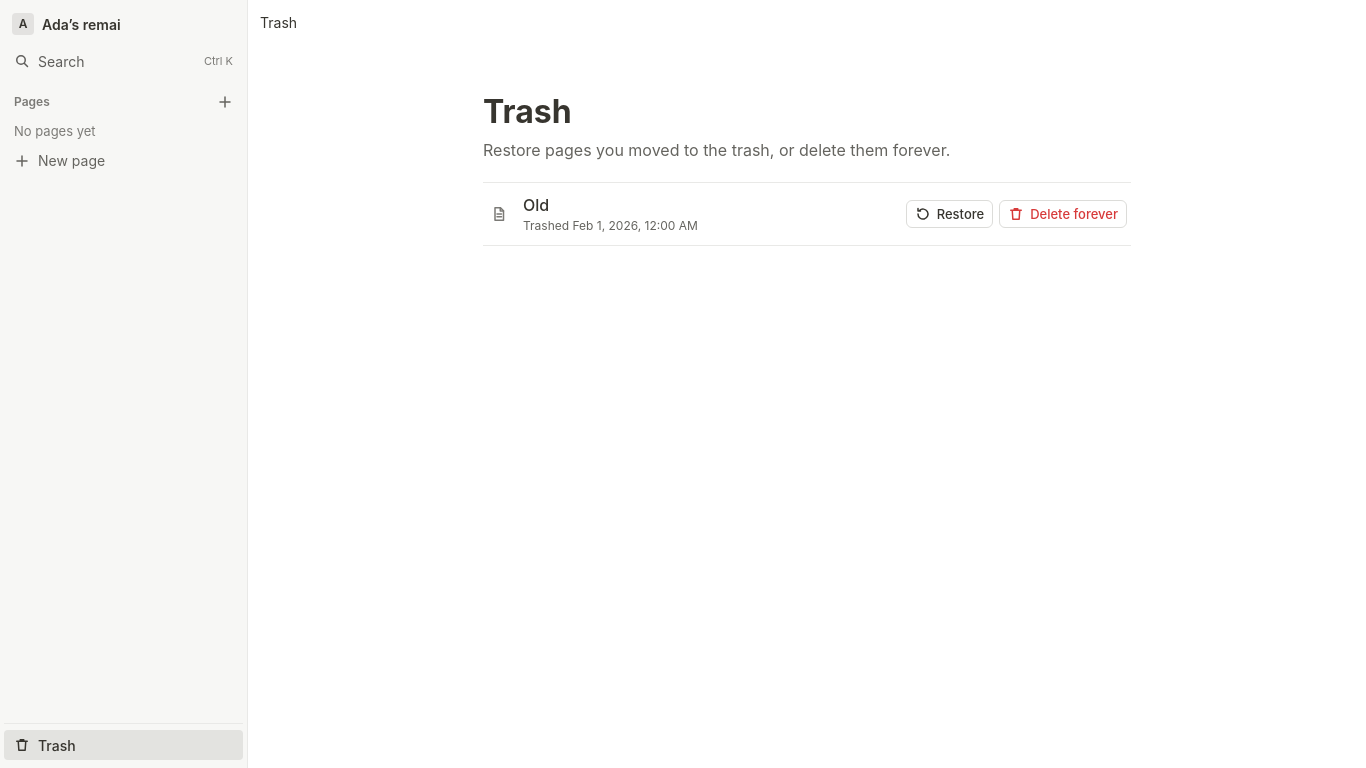
Test case: Trash in clients › Confirm before delete forever: asks first, and deletes only after confirming
This screenshot has width=1366, height=768.
Click the button with aria-label "Delete Old forever": (1063, 214) [999,200,1127,228]
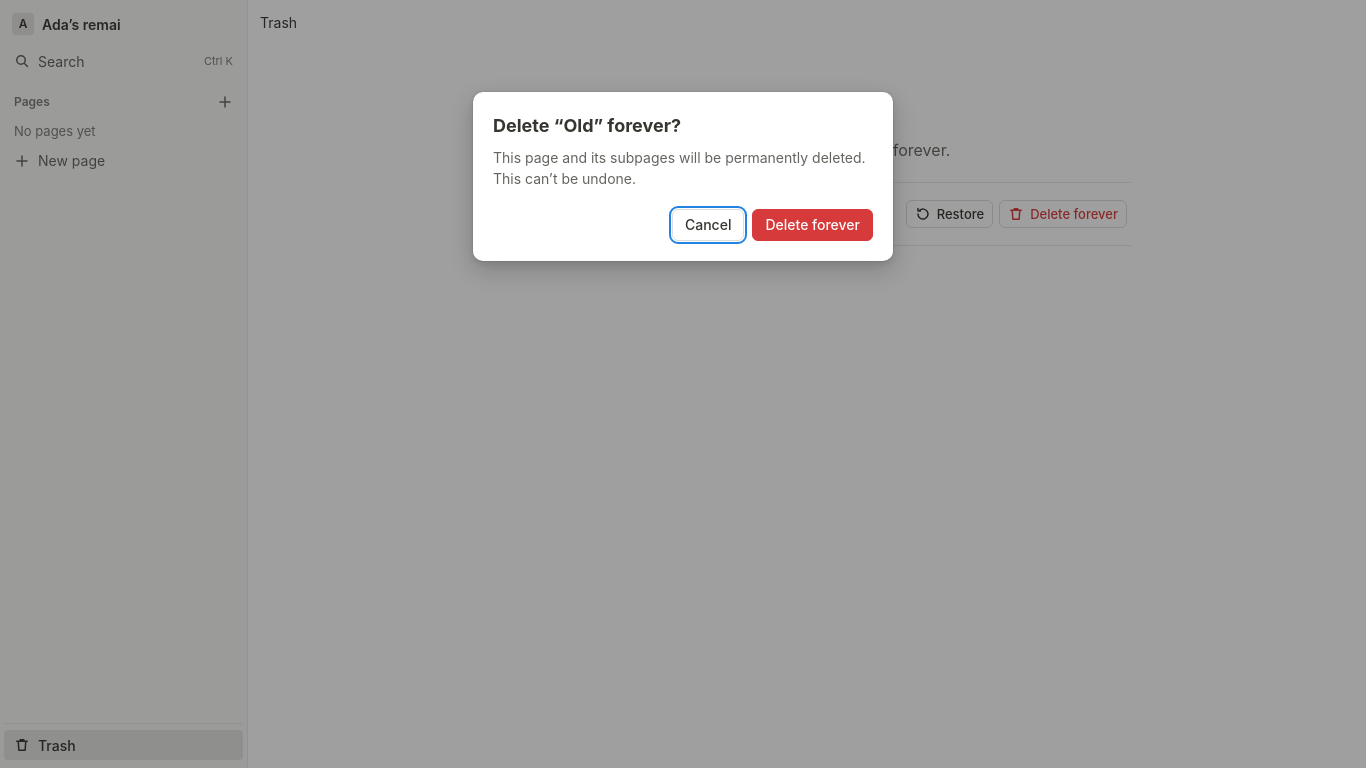
Click the button "Cancel": (708, 225) [672,209,744,241]
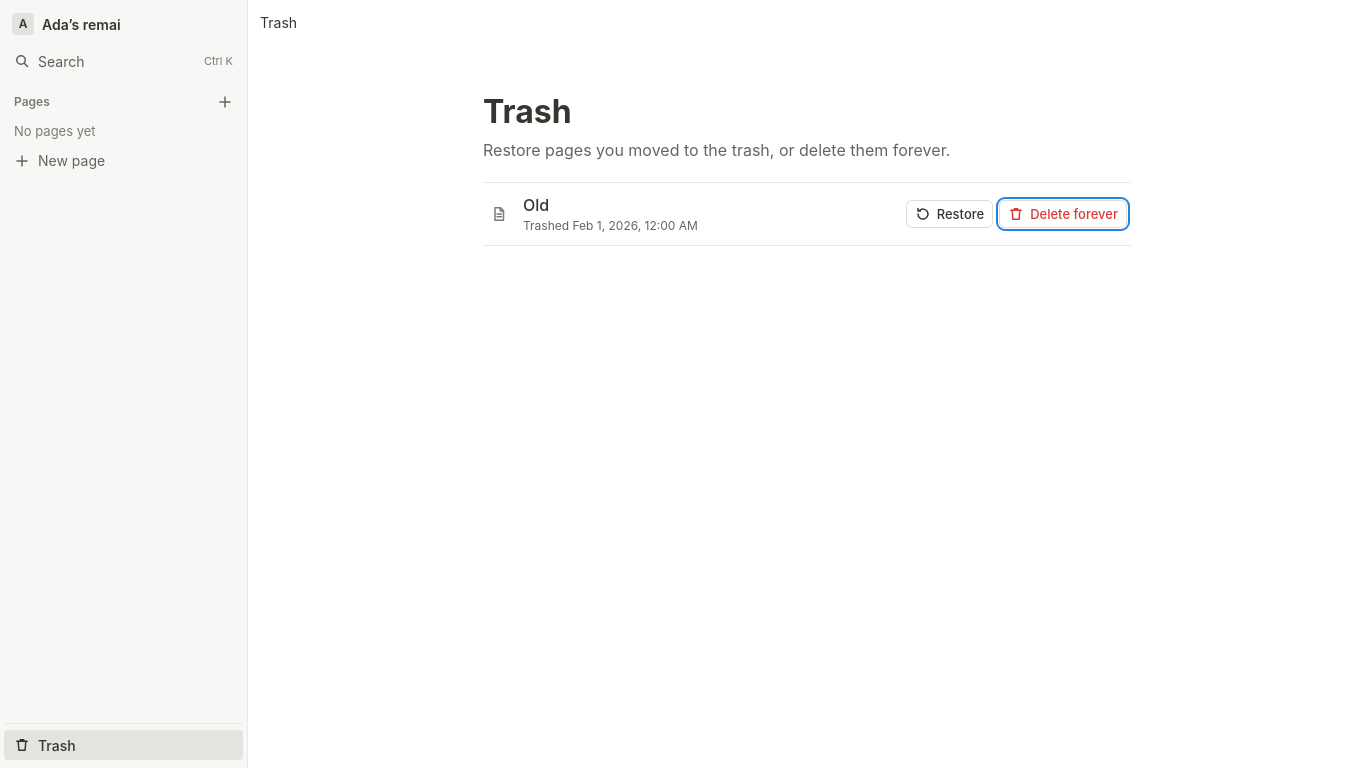
Result: the dialog is gone
Click the button with aria-label "Delete Old forever": (1063, 214) [999,200,1127,228]
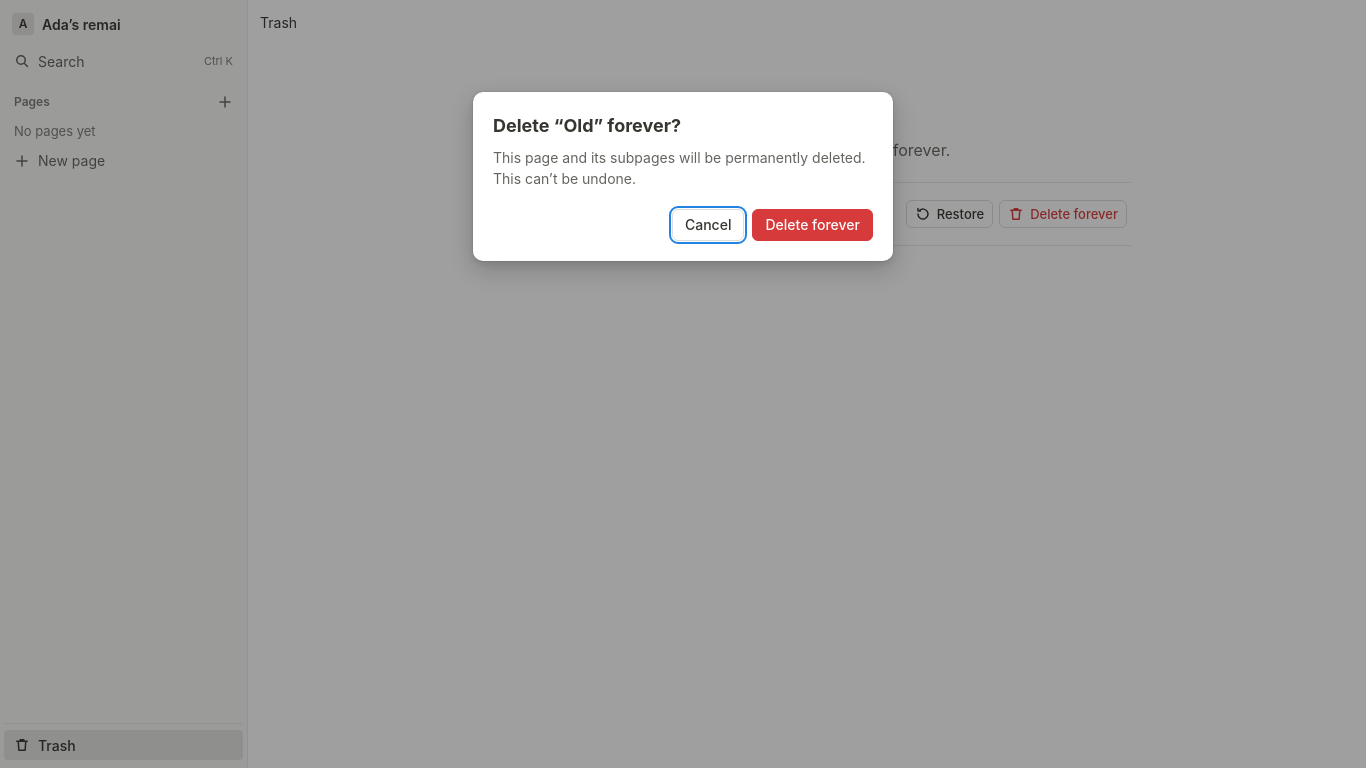
Click the button "Delete forever": (813, 225) [752,209,873,241]
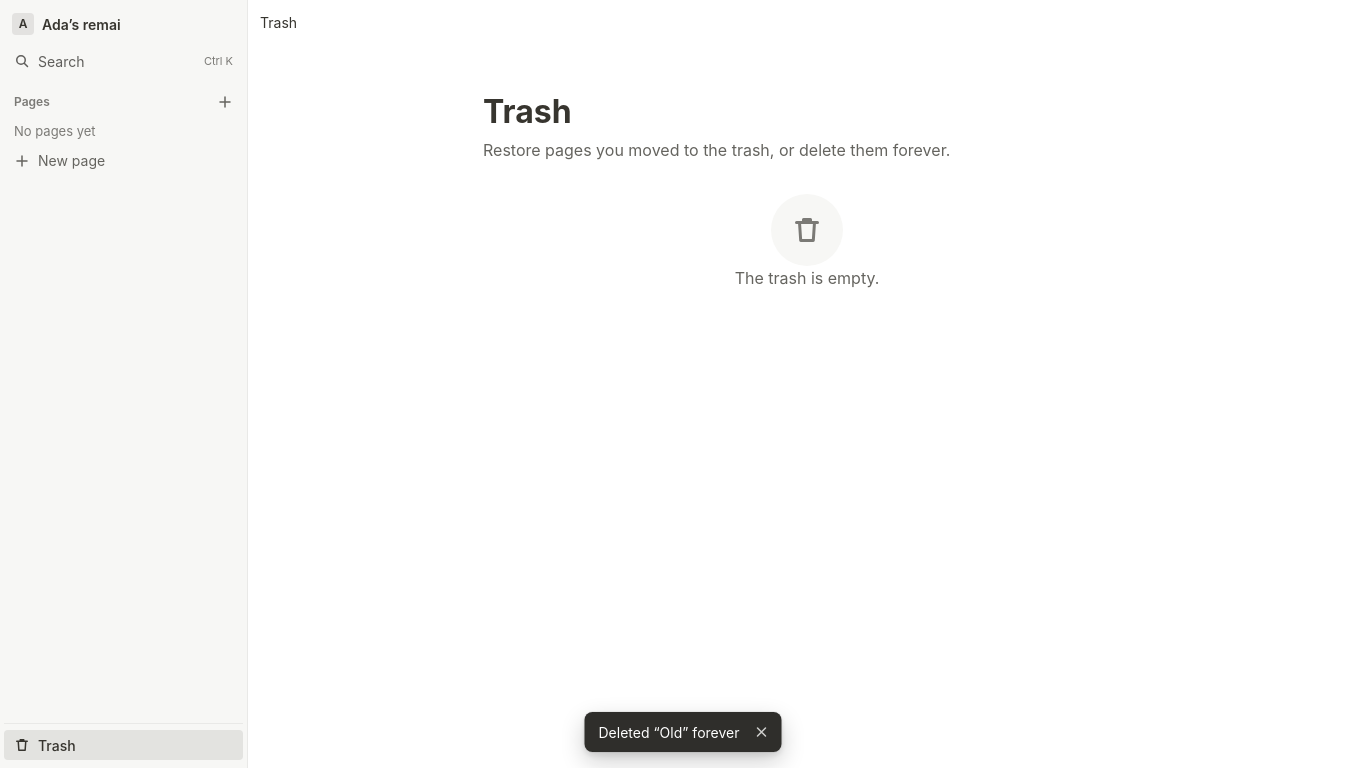
Result: the text "The trash is empty." is shown at [735,266,879,290]
